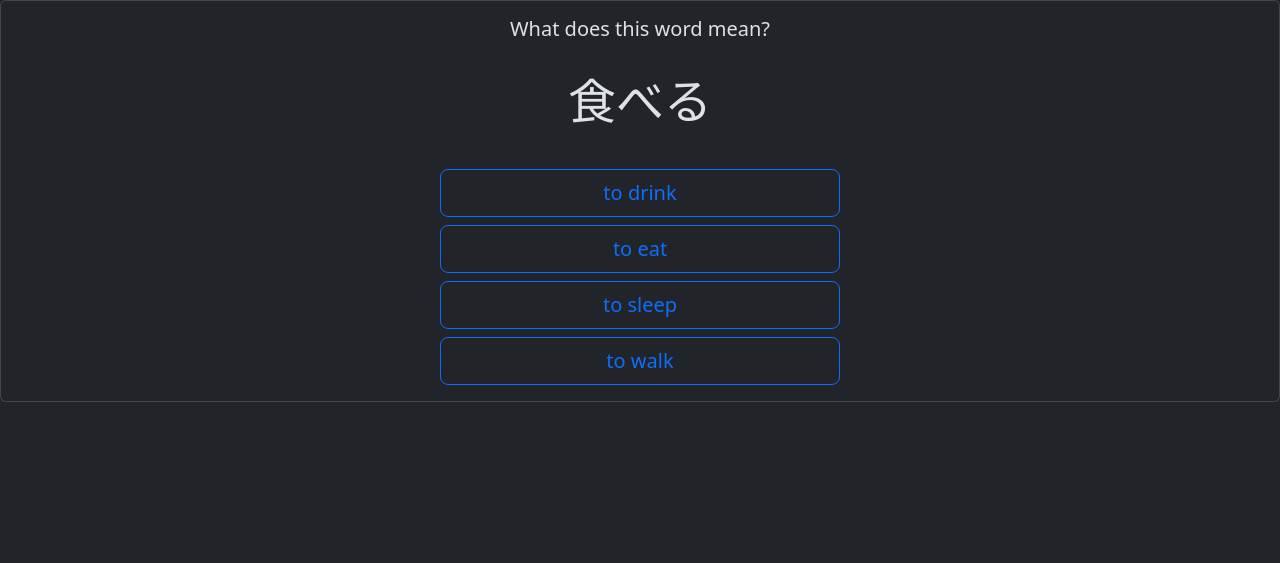
KanjiQuiz › disables buttons after selecting an answer
Click the button "to drink" at (640, 193), box [440,169,840,217]
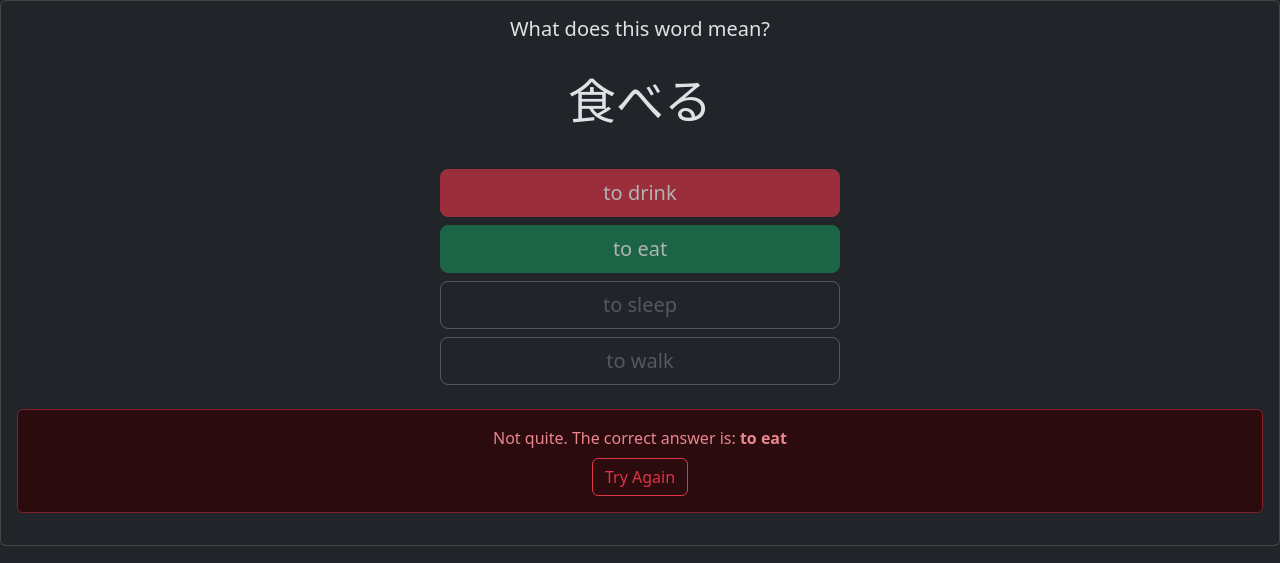
Expected: the button with test id "option-0" is disabled, [440,169,840,217]
Expected: the button with test id "option-1" is disabled, [440,225,840,273]
Expected: the button with test id "option-2" is disabled, [440,281,840,329]
